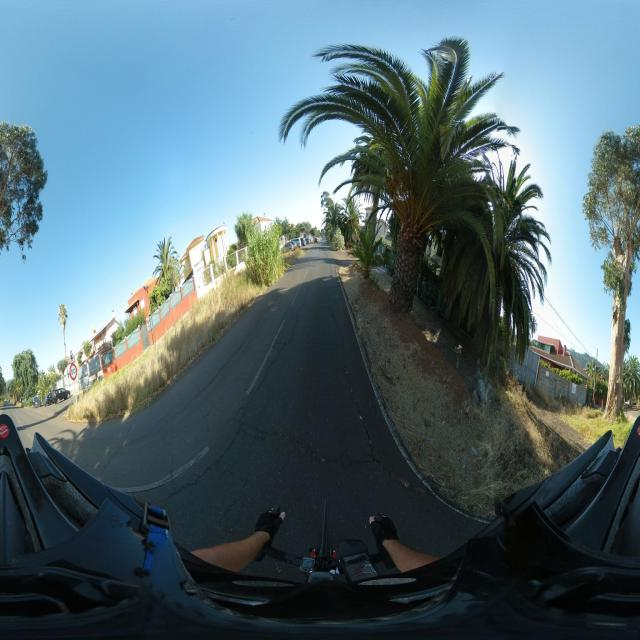car: (236, 259, 247, 272)
